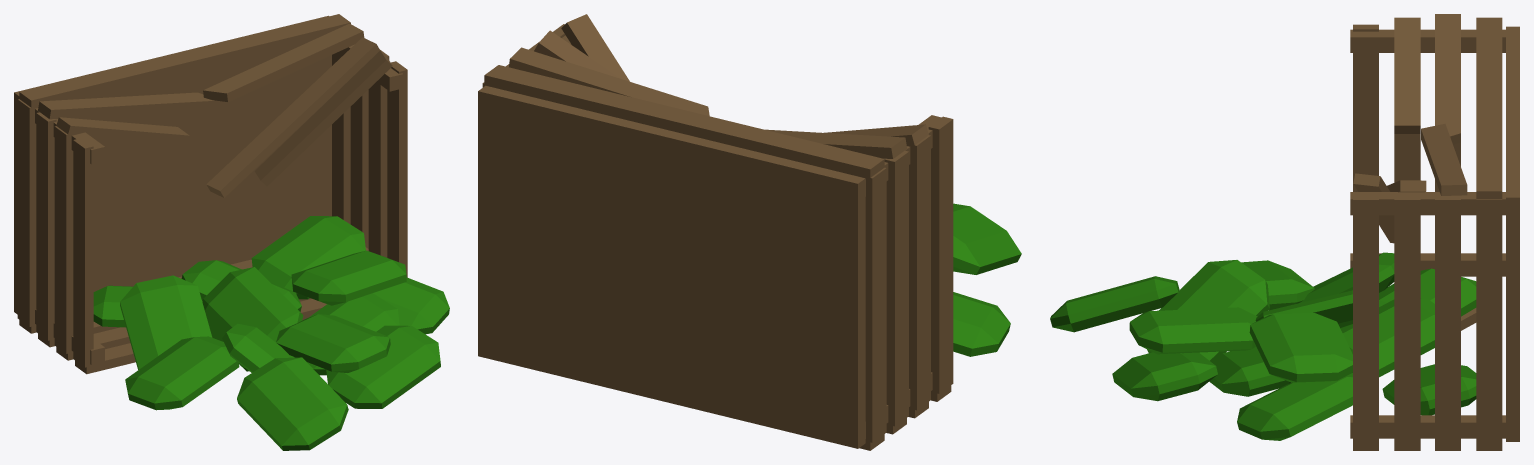
The model's file is Caja con gemas.fbx.
3 renders of one model, left to right at view 1: azimuth 30°, elevation 25°; view 2: azimuth 150°, elevation 25°; view 3: azimuth 270°, elevation 25°, orthographic. The views are drawn at different scales.
Parts seen in each view (by area): view 1: Caja con gemas; view 2: Caja con gemas; view 3: Caja con gemas.
Boxes of the visible parts, <box> form: Caja con gemas: <box>14,14,449,450</box>; Caja con gemas: <box>478,14,1021,450</box>; Caja con gemas: <box>1050,14,1519,450</box>.
Size of the model in its own units: 924 by 667 by 1024.
